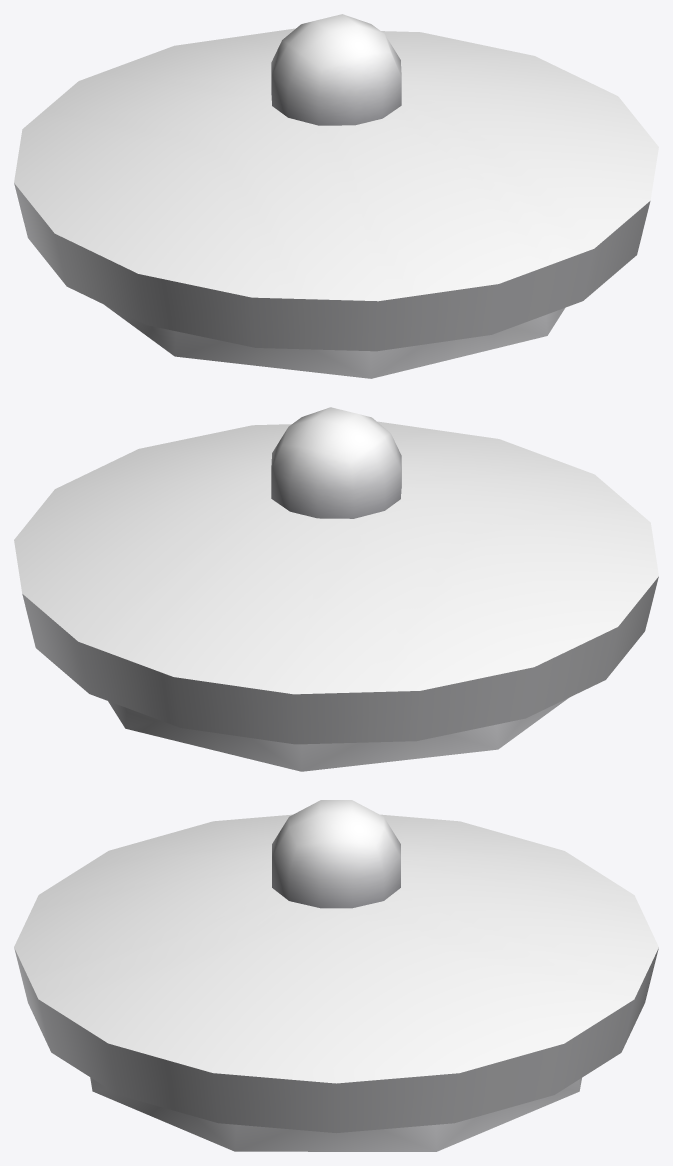
The model's file is m_SugarContainer01_Lid.fbx.
3 views of the same model, one above another, from view 1: azimuth 30°, elevation 25°; view 2: azimuth 150°, elevation 25°; view 3: azimuth 270°, elevation 25° (orthographic).
Parts seen in each view (by area): view 1: m_SugarContainer01_Lid; view 2: m_SugarContainer01_Lid; view 3: m_SugarContainer01_Lid.
Part boxes in pixels (x1=…): m_SugarContainer01_Lid: x1=14, y1=14, x2=658, y2=378; m_SugarContainer01_Lid: x1=14, y1=407, x2=658, y2=771; m_SugarContainer01_Lid: x1=14, y1=800, x2=658, y2=1151.
Size of the model in its own units: 9.74 by 4.03 by 9.74.
